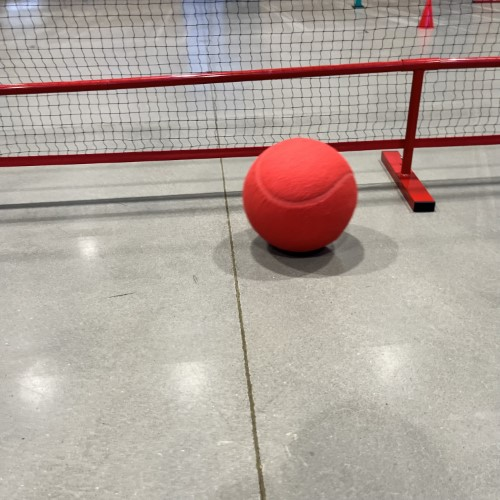red: (240, 134, 360, 253)
